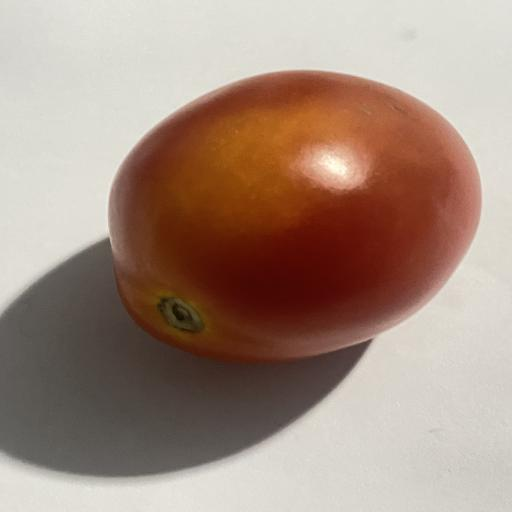ripe: (109, 71, 481, 362)
